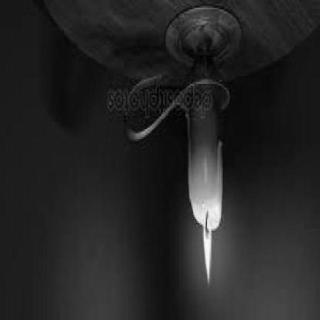Fire: (197, 212, 219, 290)
